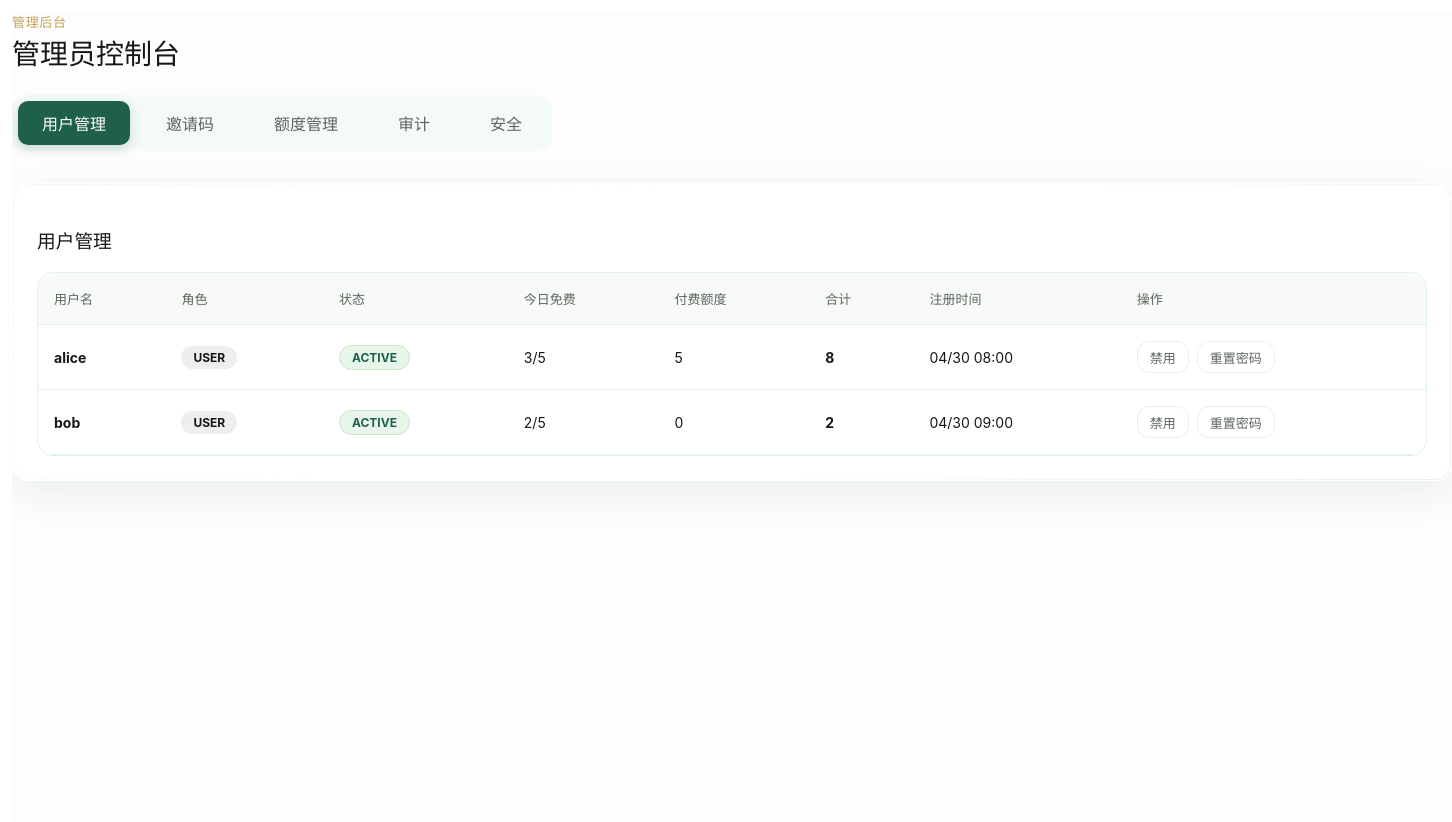
Test case: AdminPage › shows an empty task message when generation filters match no rows
The image size is (1452, 822).
Click the tab "审计".
click(414, 123)  # box [374,101,454,145]
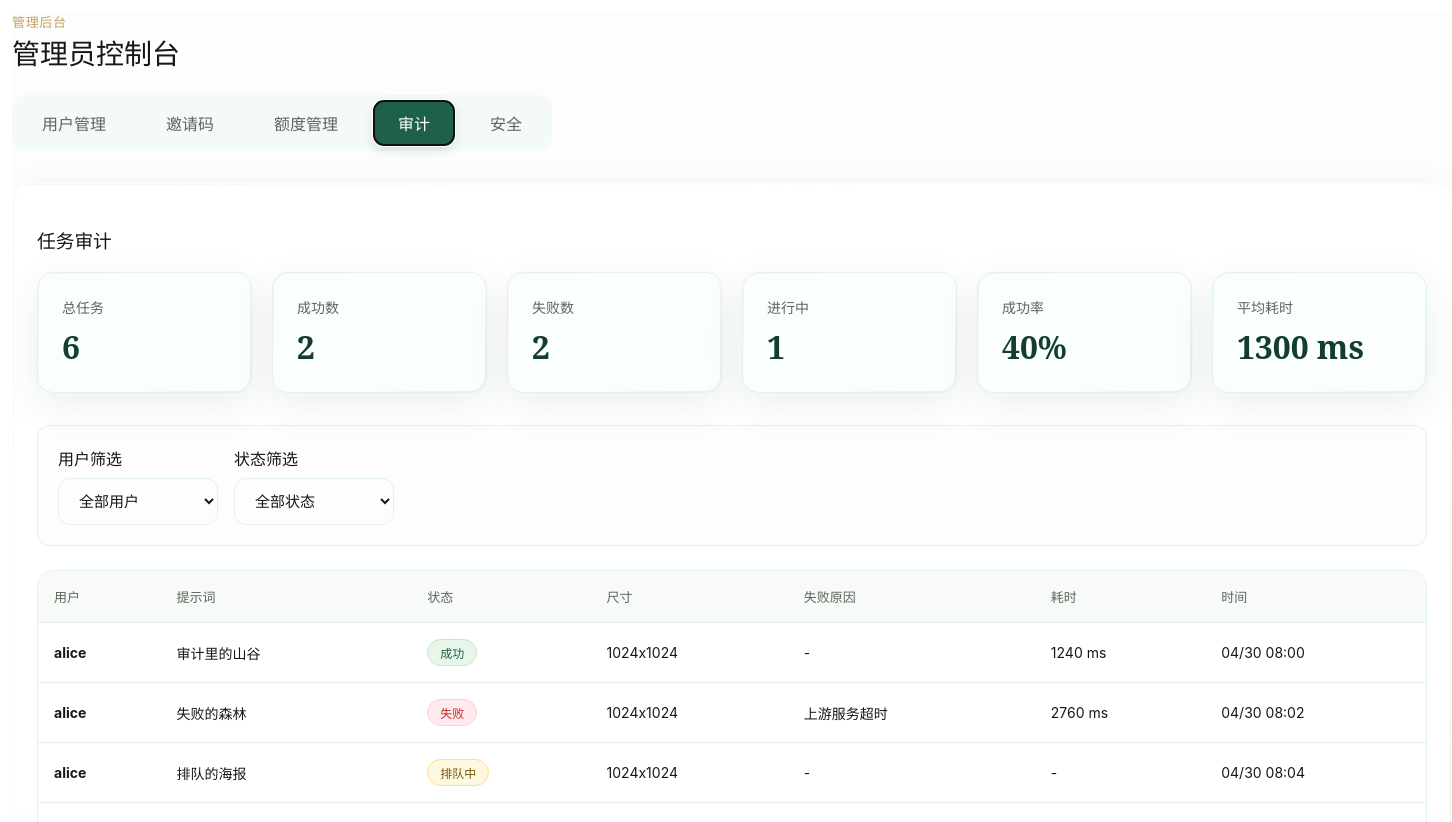
Select "bob" in the dropdown named "筛选用户" at (138, 502), box [58,478,218,525]
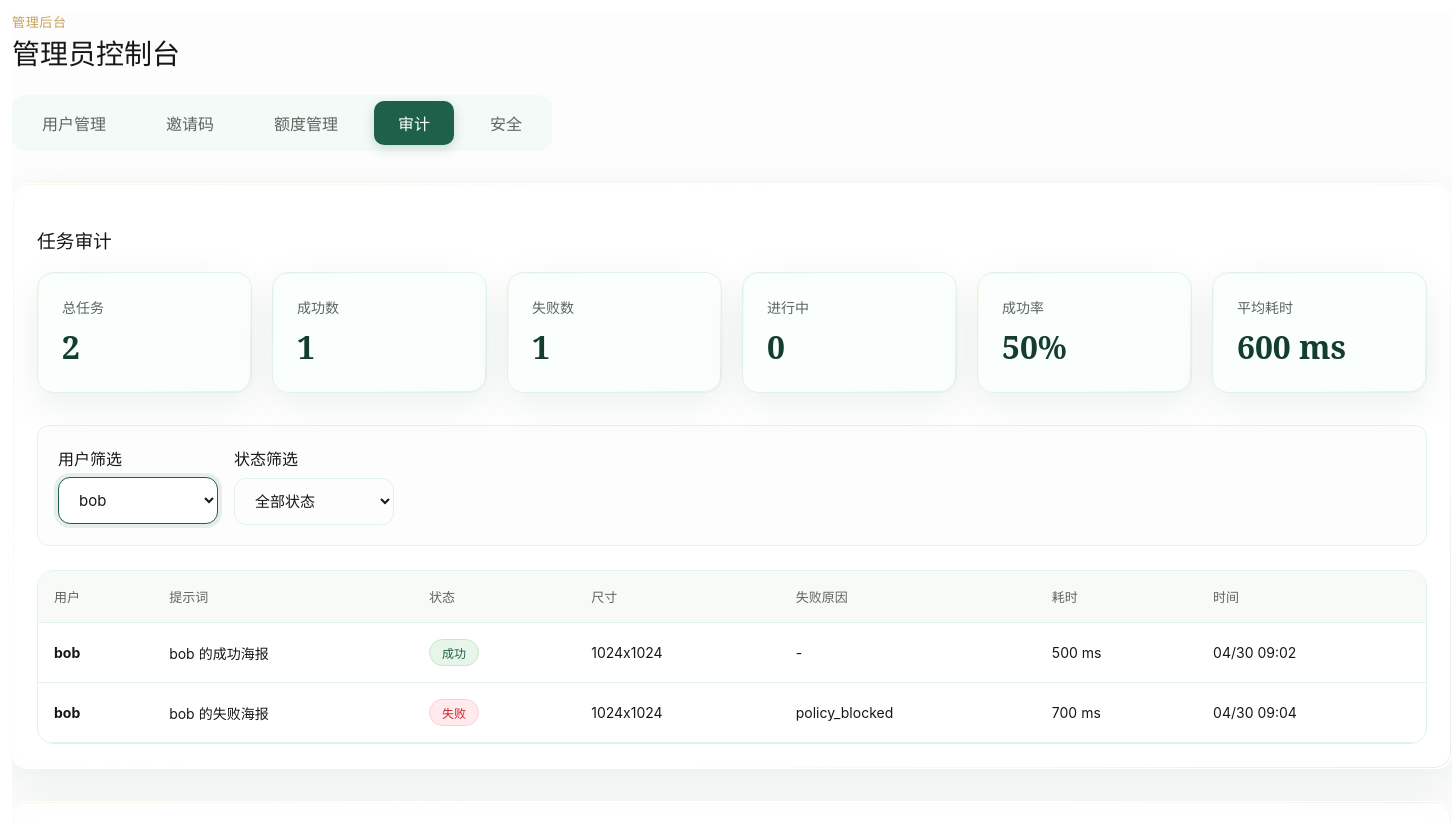
Select "生成中" in the dropdown named "筛选状态" at (314, 502), box [234,478,394,525]
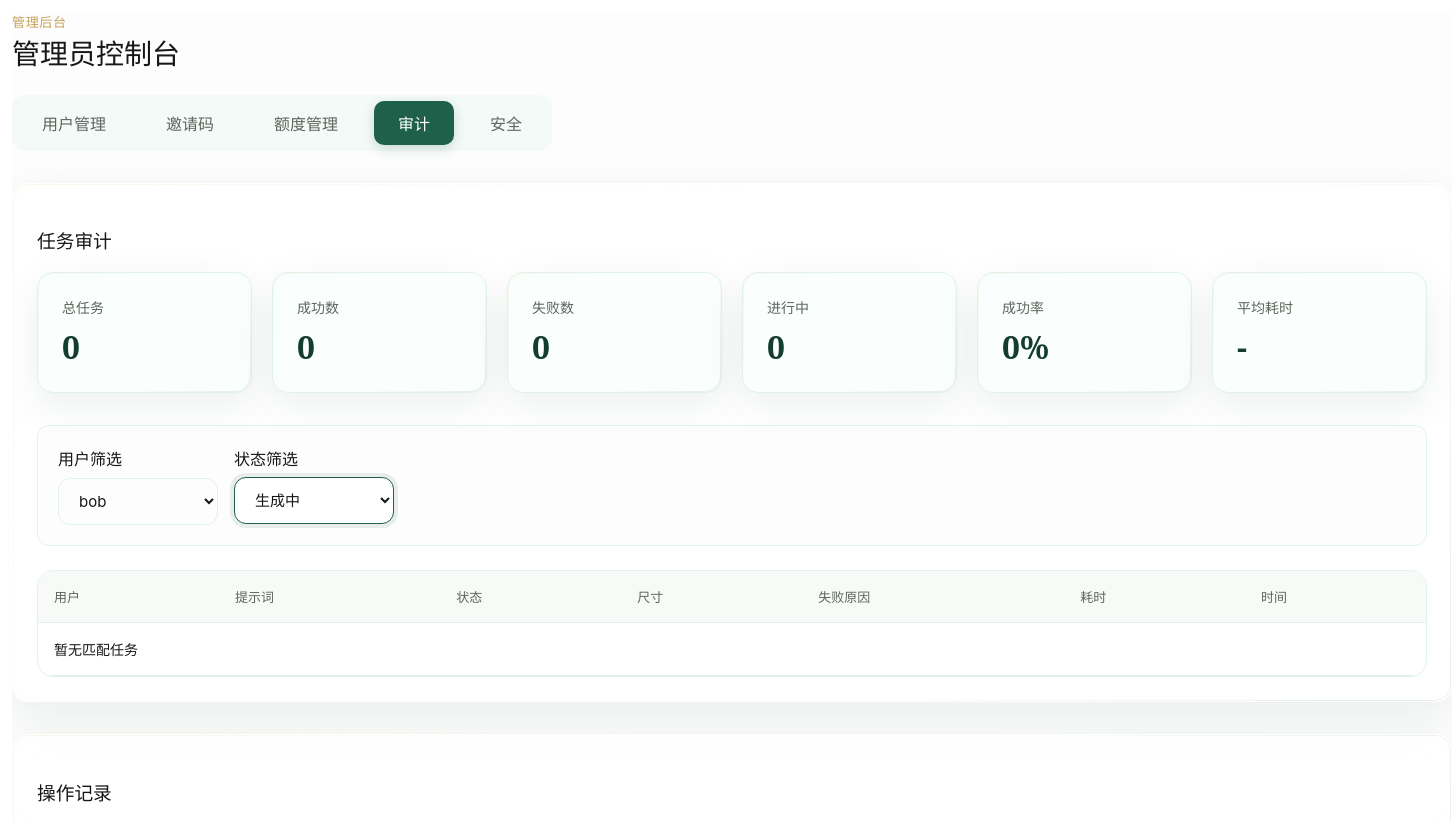
Result: the text "暂无匹配任务" is shown at [38,622,1426,676]
Result: the text "bob 的成功海报" is gone
